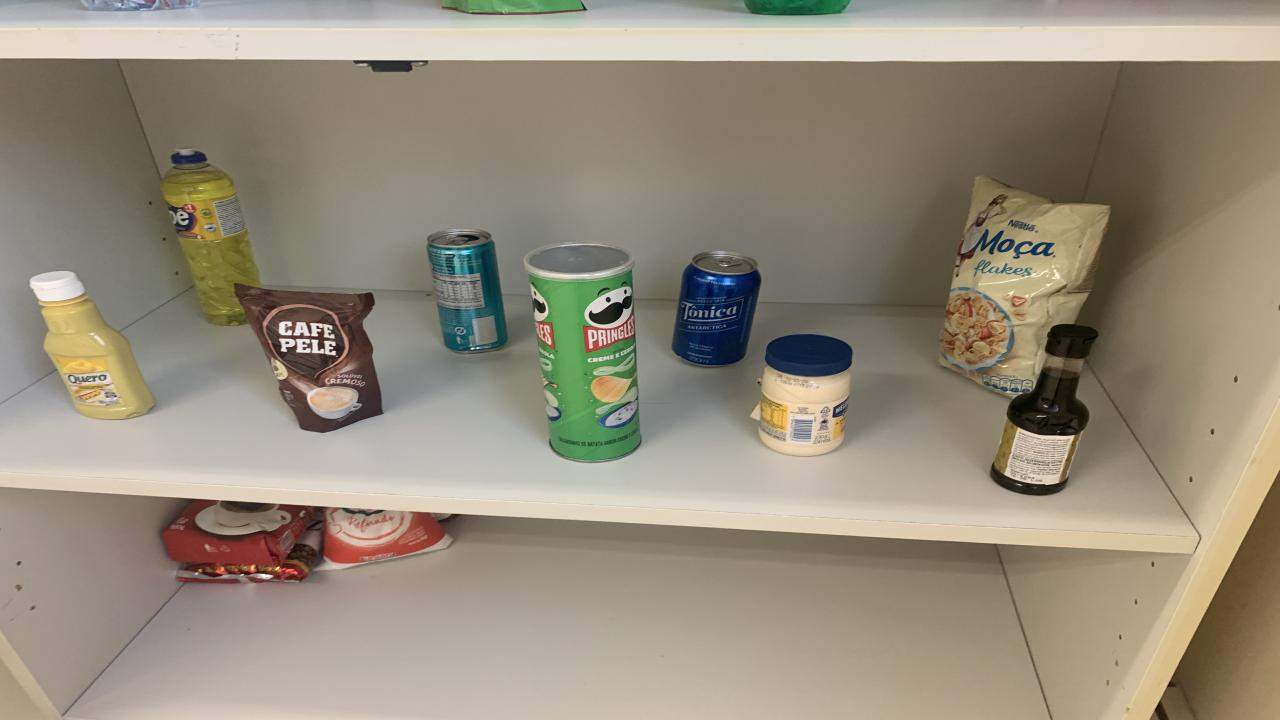Coffee-Pantry_Items: (235, 285, 382, 431)
Detergent-Cleanup_Items: (160, 150, 260, 326)
English_Sauce-Pantry_Items: (990, 324, 1098, 495)
Flakes-Snacks: (940, 176, 1110, 398)
Mayonnaise-Pantry_Items: (758, 336, 850, 456)
Mustard-Pantry_Items: (30, 272, 155, 420)
Pringles-Snacks: (525, 244, 640, 463)
Tea-Drinks: (428, 229, 508, 352)
Tomato_Sauce-Pantry_Items: (440, 0, 585, 15)
Tonic-Drinks: (672, 251, 760, 366)
Water_Bottle-Drinks: (82, 0, 200, 11)
